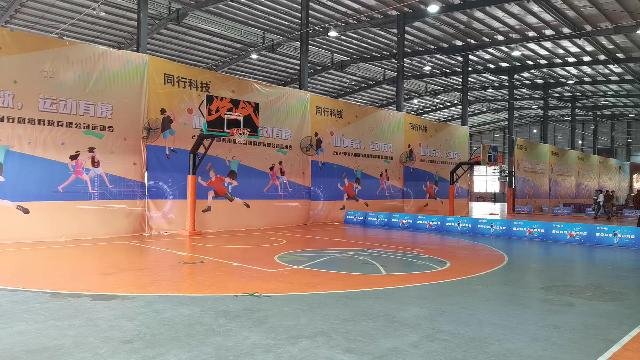basket: (232, 127, 250, 143)
